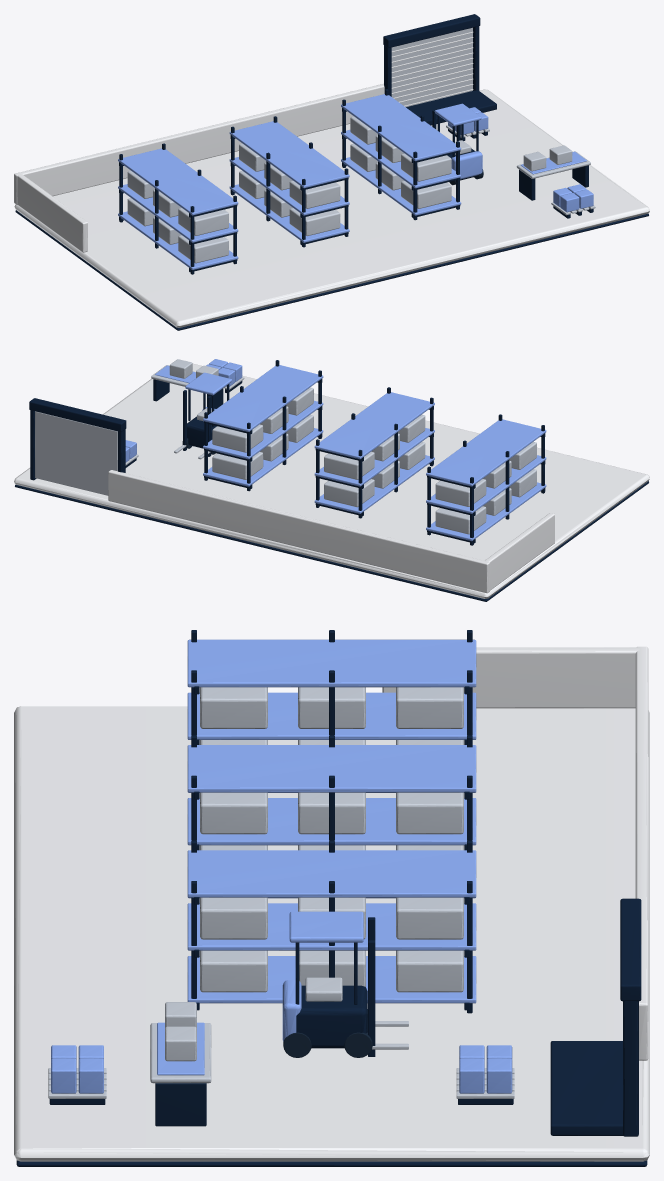
File: almacen.glb
The picture shows the model from 3 angles, top to bottom: view 1: azimuth 30°, elevation 25°; view 2: azimuth 150°, elevation 25°; view 3: azimuth 270°, elevation 25°; orthographic projection. The views are drawn at different scales.
Parts seen in each view (by area): view 1: suelo, pared-trasera, cortina, rack-2-nivel-3, rack-1-nivel-3, rack-3-nivel-3, pared-lateral, canto-base, muelle-dintel, muelle-plataforma, rack-1-nivel-2, rack-2-nivel-2 (+18 smaller); view 2: suelo, pared-trasera, cortina, rack-2-nivel-3, rack-1-nivel-3, rack-3-nivel-3, pared-lateral, canto-base, muelle-dintel, rack-3-nivel-1, rack-2-nivel-1, rack-1-nivel-1 (+24 smaller); view 3: suelo, rack-1-nivel-3, rack-2-nivel-3, rack-3-nivel-3, pared-lateral, muelle-plataforma, rack-2-nivel-2, rack-1-nivel-2, rack-3-nivel-2, pared-trasera, rack-3-nivel-1, canto-base (+28 smaller).
Boxes of the visible parts, box(x1,y1,x2,y2) form: suelo: box(14, 89, 649, 327); pared-trasera: box(14, 83, 384, 204); cortina: box(391, 27, 472, 107); rack-2-nivel-3: box(229, 121, 349, 188); rack-1-nivel-3: box(118, 148, 238, 215); rack-3-nivel-3: box(341, 94, 461, 160); pared-lateral: box(17, 174, 87, 252); canto-base: box(15, 210, 648, 330); muelle-dintel: box(383, 14, 480, 47); muelle-plataforma: box(406, 90, 496, 125); rack-1-nivel-2: box(118, 184, 238, 242); rack-2-nivel-2: box(229, 157, 349, 215); suelo: box(14, 363, 649, 598); pared-trasera: box(108, 470, 490, 593); cortina: box(35, 411, 117, 495); rack-2-nivel-3: box(314, 392, 434, 459); rack-1-nivel-3: box(426, 419, 546, 486); rack-3-nivel-3: box(203, 365, 323, 431); pared-lateral: box(485, 513, 554, 590); canto-base: box(15, 481, 648, 601); muelle-dintel: box(29, 398, 126, 431); rack-3-nivel-1: box(203, 428, 323, 486); rack-2-nivel-1: box(314, 455, 434, 513); rack-1-nivel-1: box(426, 482, 546, 541); suelo: box(14, 706, 649, 1161); rack-1-nivel-3: box(187, 639, 476, 687); rack-2-nivel-3: box(187, 745, 476, 792); rack-3-nivel-3: box(187, 850, 476, 897); pared-lateral: box(382, 647, 639, 708); muelle-plataforma: box(550, 1041, 623, 1135); rack-2-nivel-2: box(187, 798, 476, 845); rack-1-nivel-2: box(187, 692, 476, 739); rack-3-nivel-2: box(187, 903, 476, 950); pared-trasera: box(635, 646, 648, 1060); rack-3-nivel-1: box(187, 956, 476, 1003); canto-base: box(16, 1160, 647, 1166).
Size of the model in its own units: 20 by 3.54 by 12.
